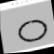no answer: (15, 14, 52, 46)
